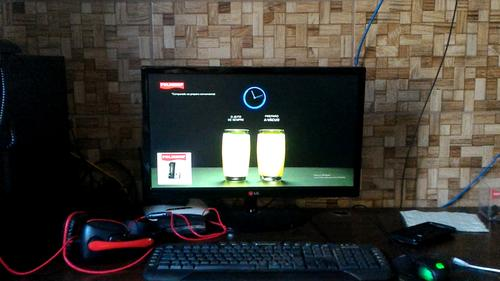Polishop #1: (156, 151, 192, 185)
